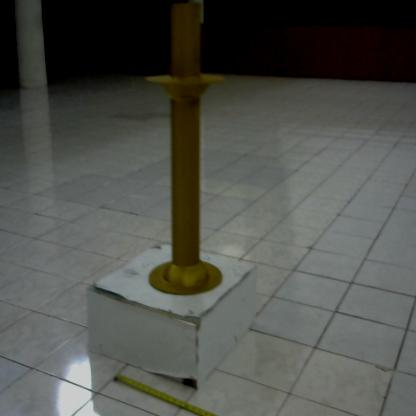pole: (142, 1, 234, 303)
